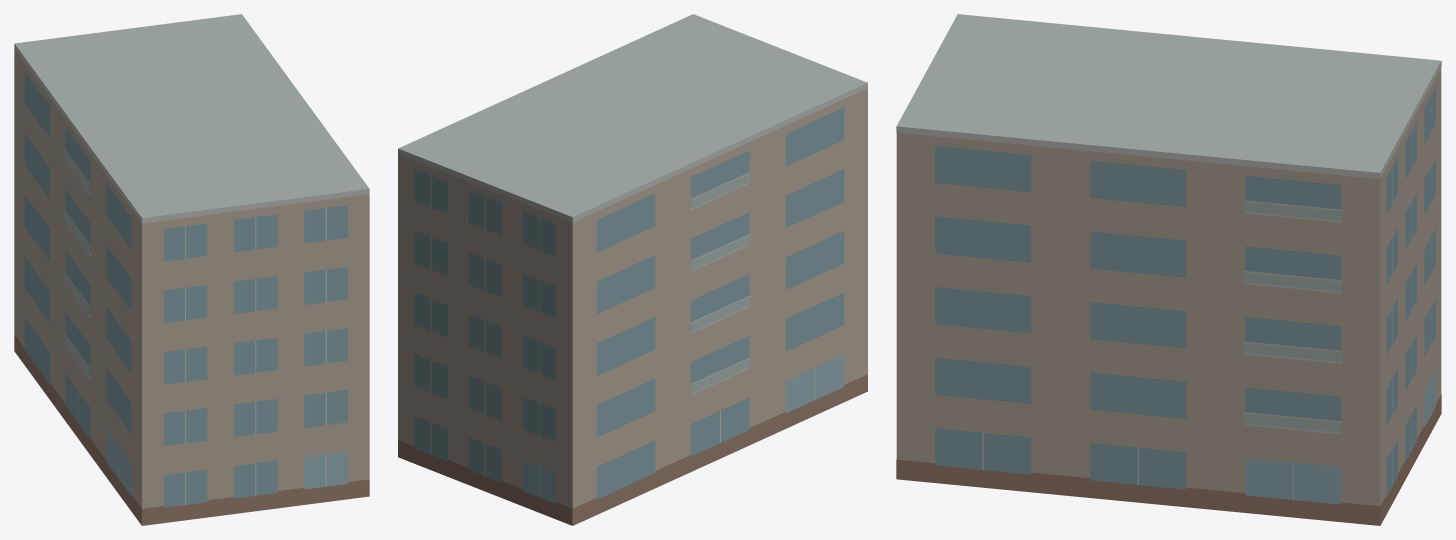
The model's file is survey-upis-32538675.glb.
3 views of the same model, side by side, from view 1: azimuth 30°, elevation 25°; view 2: azimuth 150°, elevation 25°; view 3: azimuth 270°, elevation 25° (orthographic). The views are drawn at different scales.
Visible parts, largest first — view 1: survey-upis-32538675.tmp; view 2: survey-upis-32538675.tmp; view 3: survey-upis-32538675.tmp.
Part boxes in pixels (box(x1,y1,x2,y2)): survey-upis-32538675.tmp: box(14, 14, 369, 525); survey-upis-32538675.tmp: box(398, 14, 867, 525); survey-upis-32538675.tmp: box(896, 14, 1441, 525).
Size of the model in its own units: 13.59 by 14.05 by 19.68.
